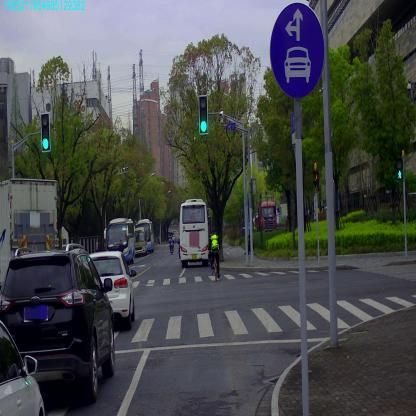traffic-light: (40, 113, 50, 151), (199, 96, 208, 134)
